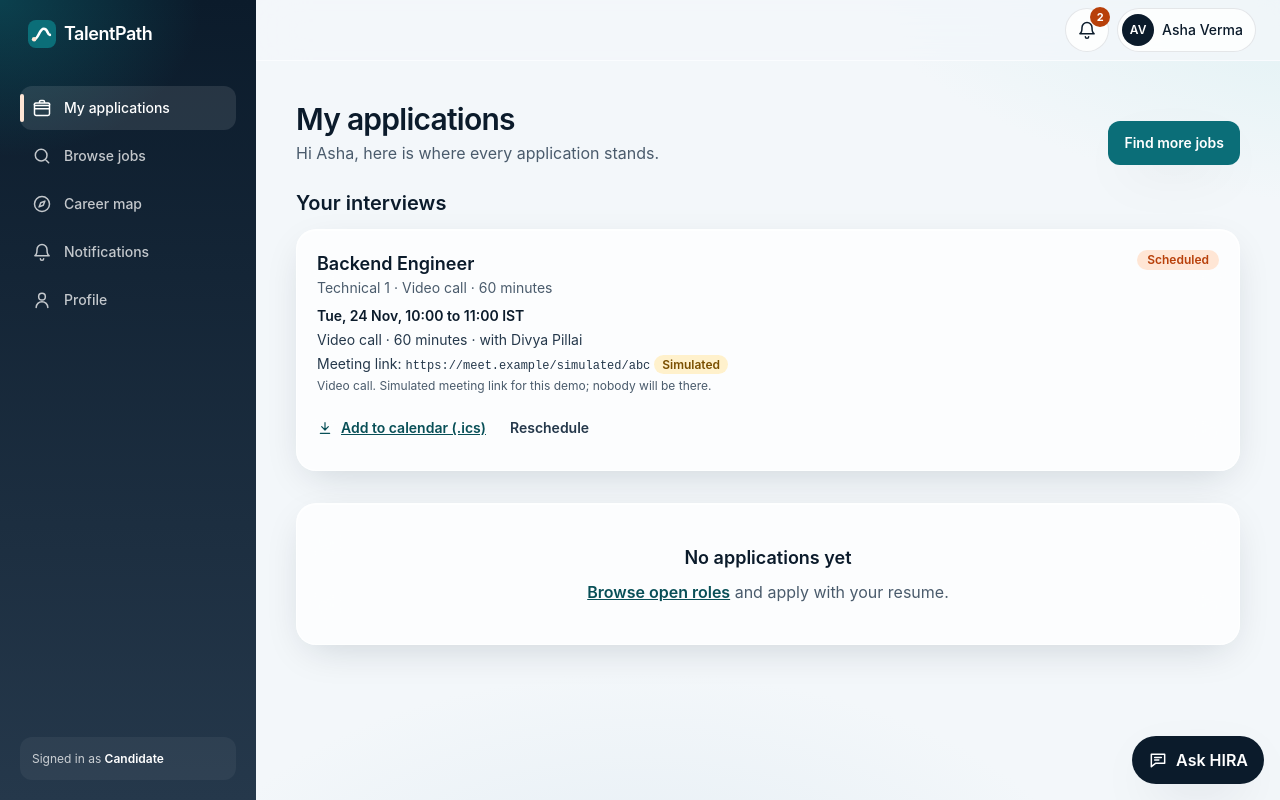
Test: candidate scheduling picker › shows a scheduled interview with a simulated link, the .ics and reschedule
The image size is (1280, 800).
Expected: the text "https://meet.example/simulated/abc" is shown, top-left (406, 359), bottom-right (650, 373)
Expected: the text "Simulated" is shown, top-left (654, 355), bottom-right (728, 374)
Click the button "Reschedule". click: (550, 428)
box: top-left (494, 406), bottom-right (605, 450)
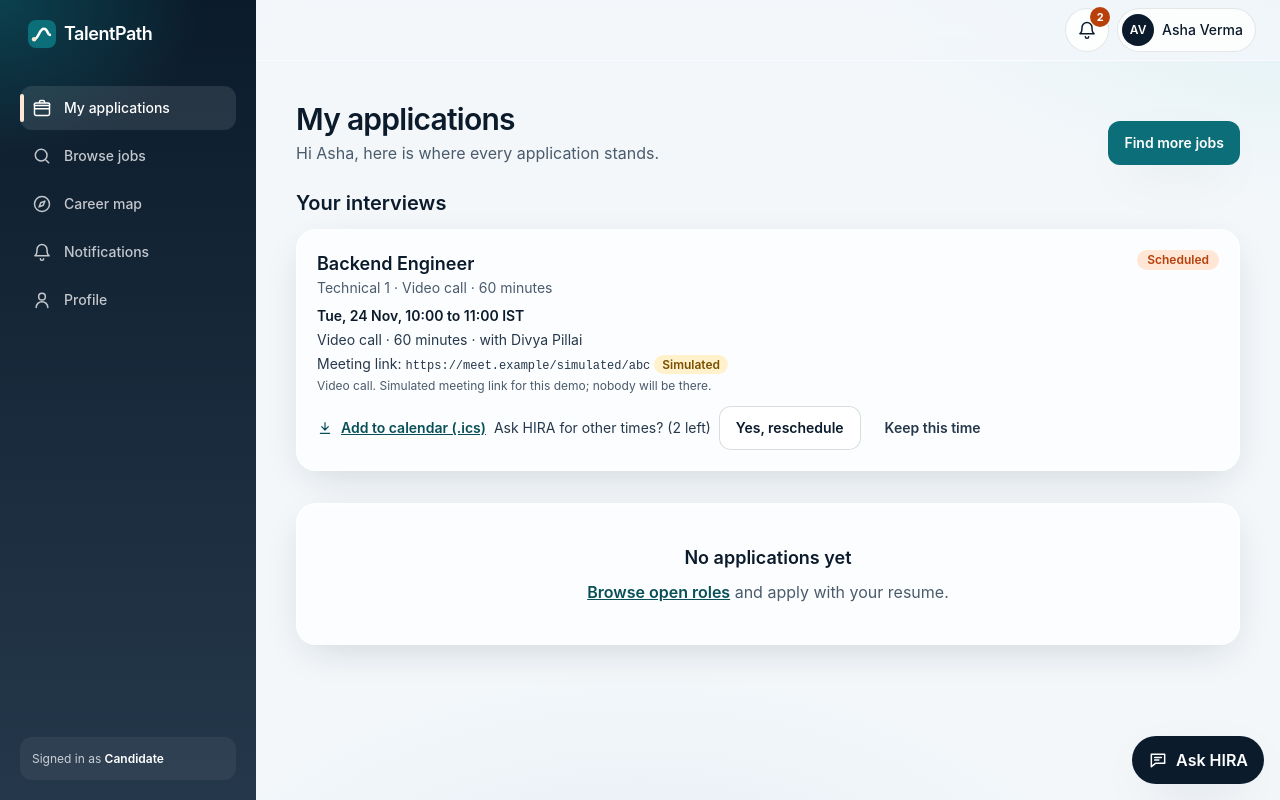
Expected: the text "Ask HIRA for other times? (2 left)" is shown, top-left (494, 418), bottom-right (711, 438)
